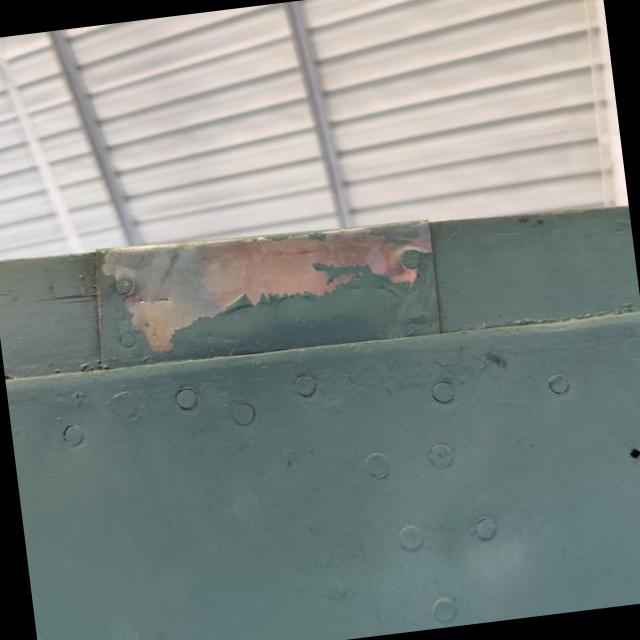Paint-off: (91, 221, 433, 354)
